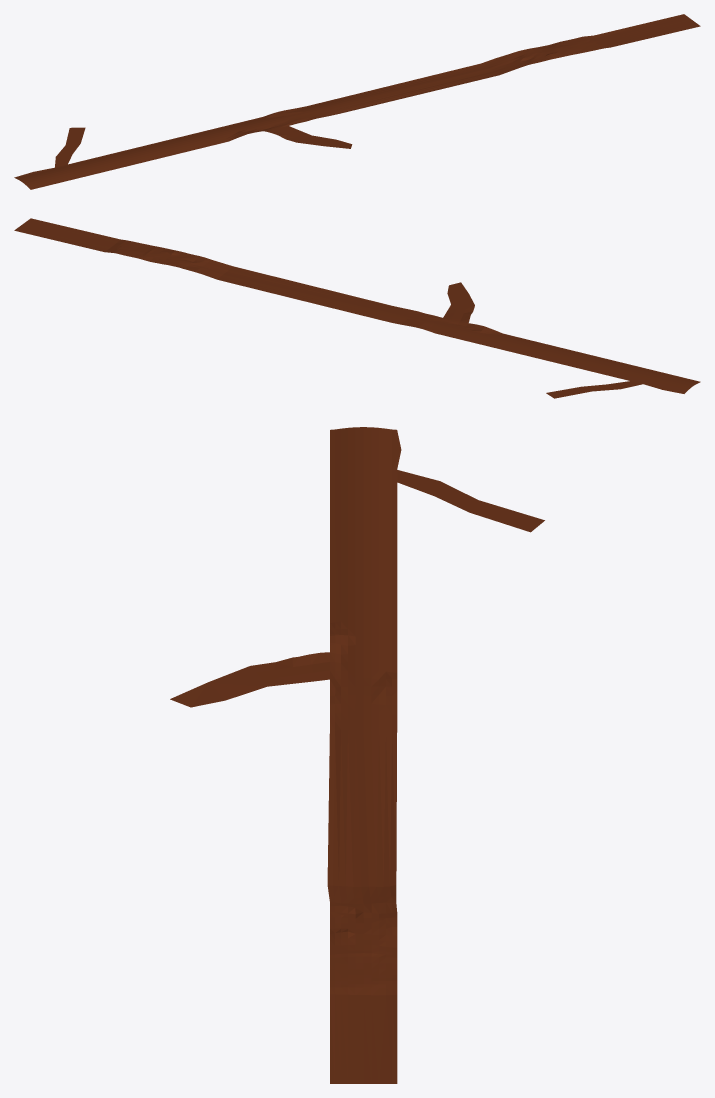
File: GameStage_1(load).obj
3 renders of one model, top to bottom at view 1: azimuth 30°, elevation 25°; view 2: azimuth 150°, elevation 25°; view 3: azimuth 270°, elevation 25°, orthographic. The views are drawn at different scales.
Visible parts, largest first — view 1: 円柱.003; view 2: 円柱.003; view 3: 円柱.003.
Boxes of the visible parts, left/top/right/bottom form: 円柱.003: left=14, top=14, right=700, bottom=189; 円柱.003: left=14, top=218, right=700, bottom=398; 円柱.003: left=170, top=427, right=544, bottom=1083.
Bounding box in the file's own units: 38.25 × 0.2506 × 9.29.
